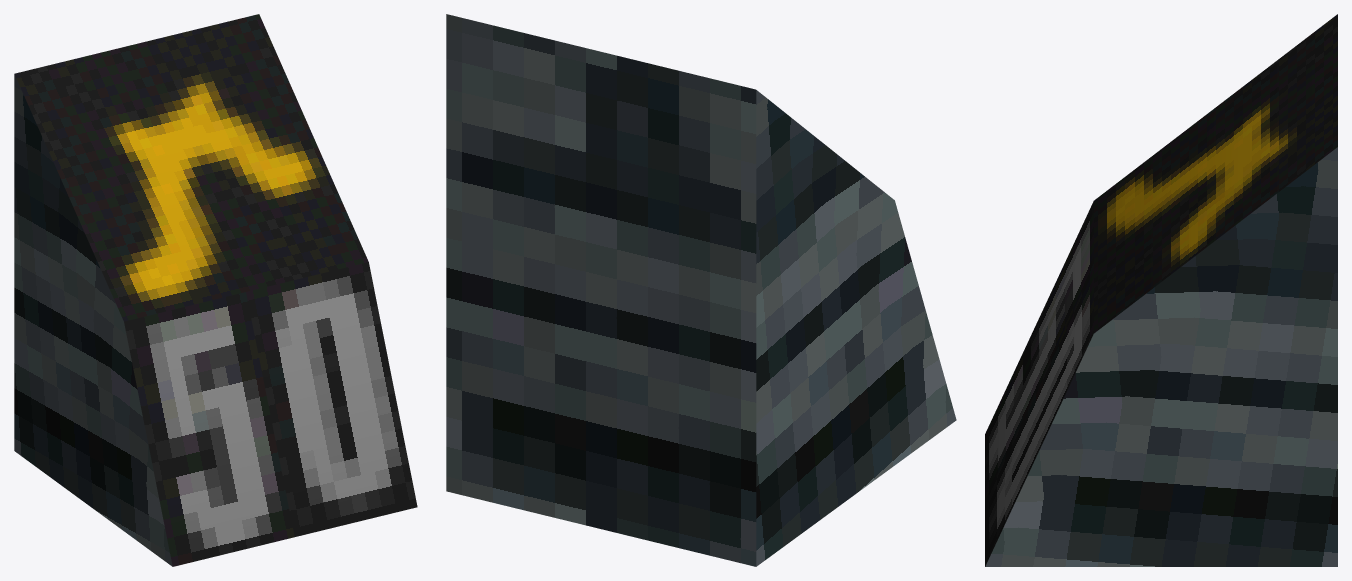
3 renders of one model, left to right at view 1: azimuth 30°, elevation 25°; view 2: azimuth 150°, elevation 25°; view 3: azimuth 270°, elevation 25°, orthographic. The views are drawn at different scales.
Visible parts, largest first — view 1: Joke_obj_034; view 2: Joke_obj_034; view 3: Joke_obj_034.
Boxes of the visible parts, x1,y1,x2,y2 form: Joke_obj_034: (14, 14, 417, 566); Joke_obj_034: (446, 14, 956, 566); Joke_obj_034: (985, 14, 1337, 566).
Bounding box in the file's own units: 0.5996 × 0.8828 × 0.6719.
Materials: 1 (1 with a texture image).
